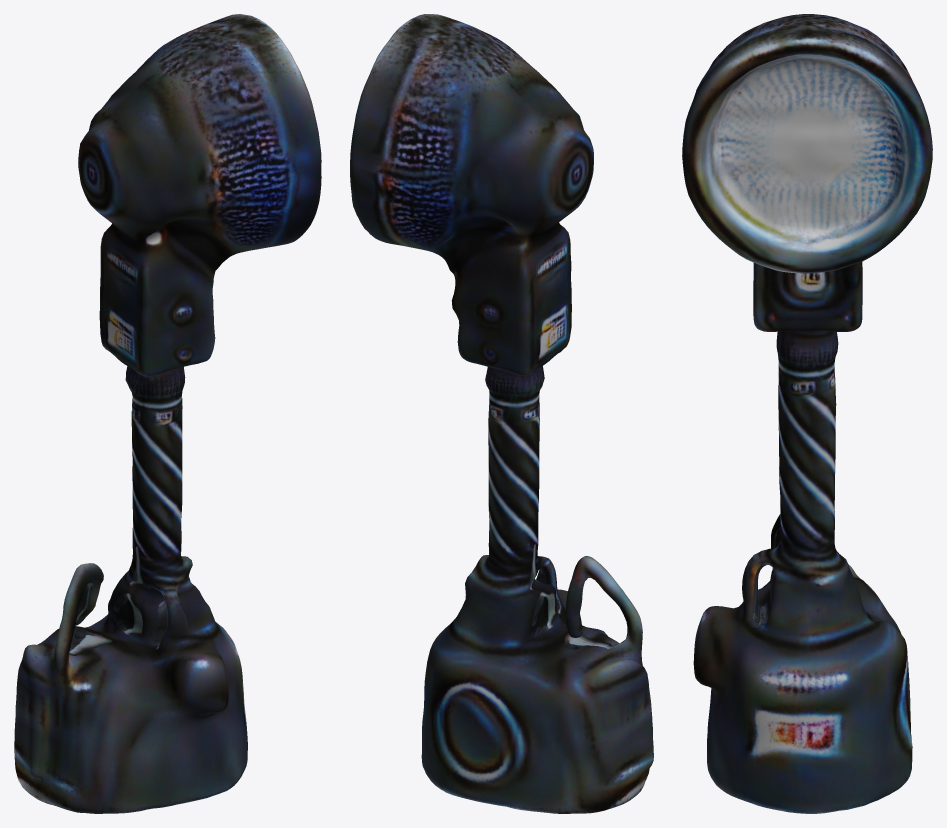
The model's file is 354b819e64d1_trun_on_Work_Light_.fbx.
3 views of the same model, side by side, from view 1: azimuth 30°, elevation 25°; view 2: azimuth 150°, elevation 25°; view 3: azimuth 270°, elevation 25° (orthographic). The views are drawn at different scales.
Parts seen in each view (by area): view 1: mesh; view 2: mesh; view 3: mesh.
Part boxes in pixels (x1=…): mesh: x1=14, y1=14, x2=321, y2=813; mesh: x1=350, y1=14, x2=653, y2=813; mesh: x1=682, y1=14, x2=932, y2=813.
Size of the model in its own units: 35.49 by 99.97 by 28.65.
